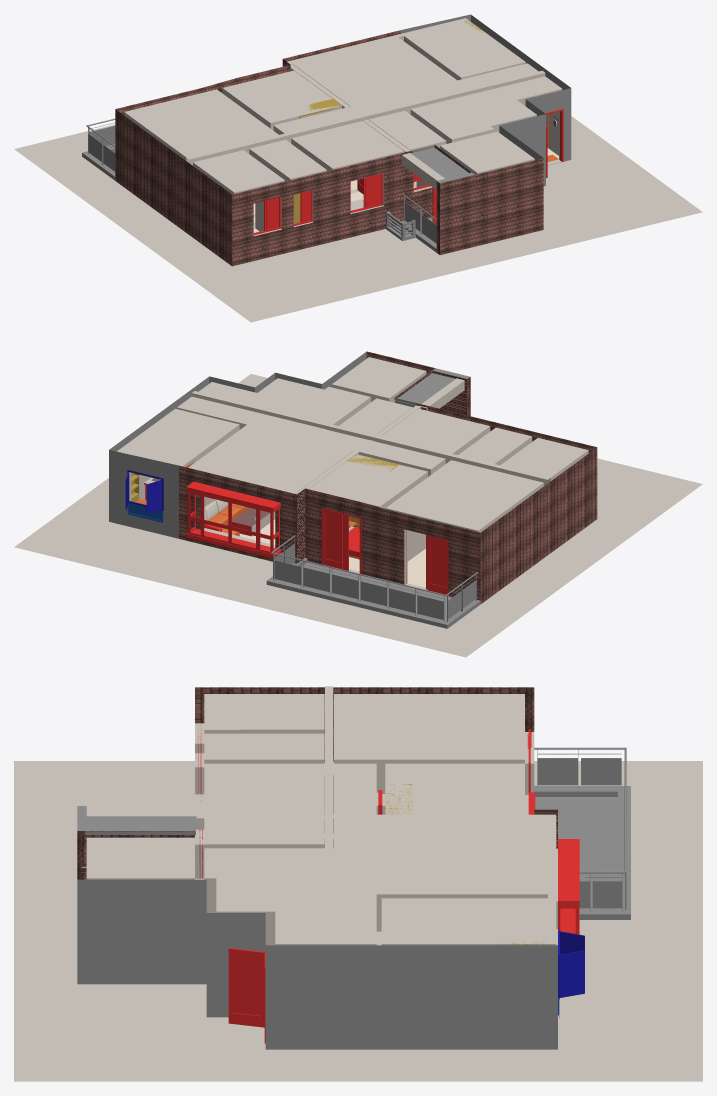
The picture shows the model from 3 angles, top to bottom: view 1: azimuth 30°, elevation 25°; view 2: azimuth 150°, elevation 25°; view 3: azimuth 270°, elevation 25°; orthographic projection. The views are drawn at different scales.
Visible parts, largest first — view 1: object 3, object 6, object 33, object 5, object 1, object 35; view 2: object 3, object 6, object 33, object 5, object 32, object 2, object 28, CasementWindow001, object 16; view 3: object 3, object 33, object 6, object 5, object 32, CasementWindow001.
Part boxes in pixels (box(x1,y1,x2,y2)): object 3: box(124, 20, 563, 236); object 6: box(82, 14, 571, 266); object 33: box(14, 116, 702, 322); object 5: box(186, 18, 545, 189); object 1: box(350, 173, 430, 212); object 35: box(253, 197, 280, 234); object 3: box(118, 357, 588, 596); object 6: box(109, 351, 597, 628); object 33: box(14, 374, 702, 657); object 5: box(117, 378, 550, 494); object 32: box(186, 481, 280, 558); object 2: box(321, 508, 448, 595); object 28: box(204, 499, 249, 536); CasementWindow001: box(125, 470, 163, 514); object 16: box(232, 508, 275, 536); object 3: box(86, 694, 557, 1043); object 33: box(14, 761, 702, 1081); object 6: box(77, 687, 630, 1049); object 5: box(86, 686, 556, 945); object 32: box(558, 839, 579, 934); CasementWindow001: box(558, 929, 584, 1000).
Bounding box in the file's own units: 761 × 124 × 691.
Materials: 13 (2 with a texture image).
